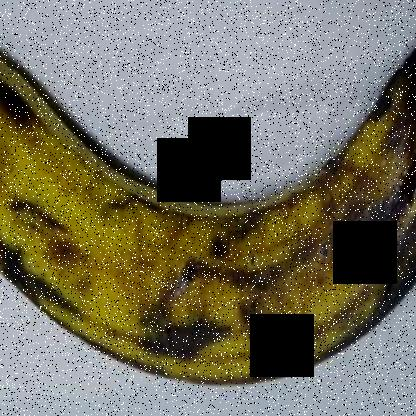overripe: (0, 5, 415, 401)
rotten: (308, 35, 415, 283)
